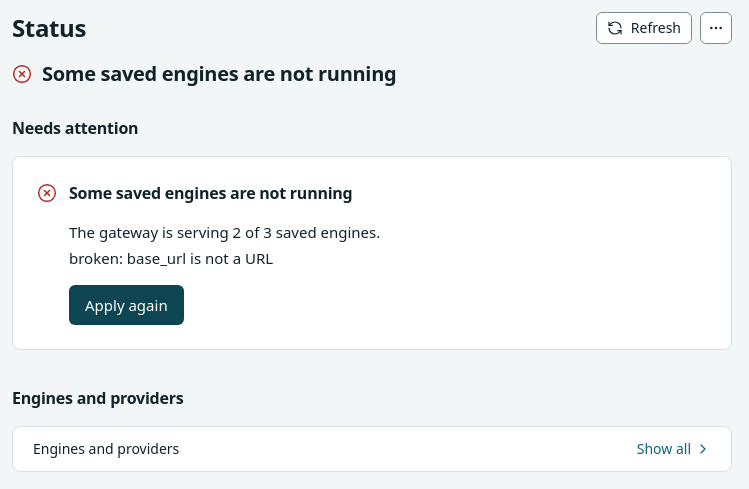
Test: applies again once with the write headers and hides the problem once it is gone
Click the button "Apply again".
click(126, 305)  # box [69,285,184,325]
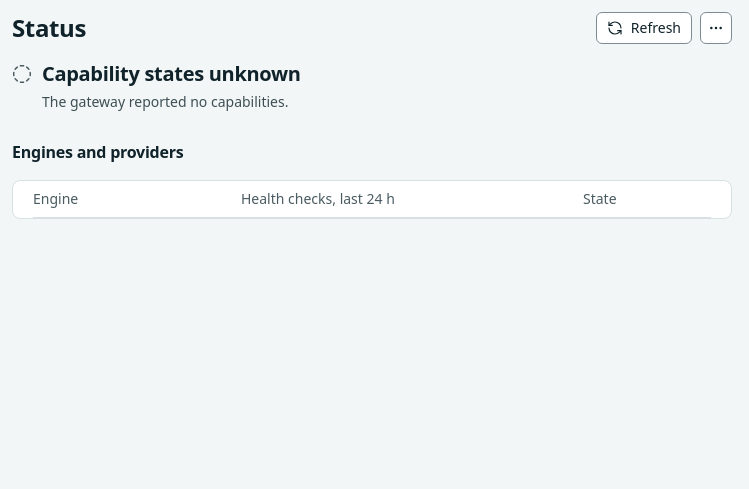
Result: the text "Some saved engines are not running" is gone
Result: the text "broken: base_url is not a URL" is gone
Result: the button "Apply again" is gone
